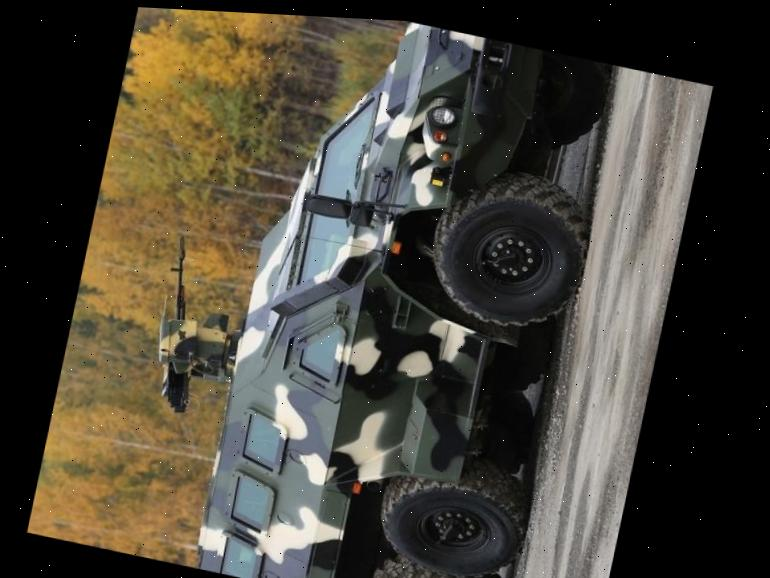armored_car: (109, 7, 629, 578)
